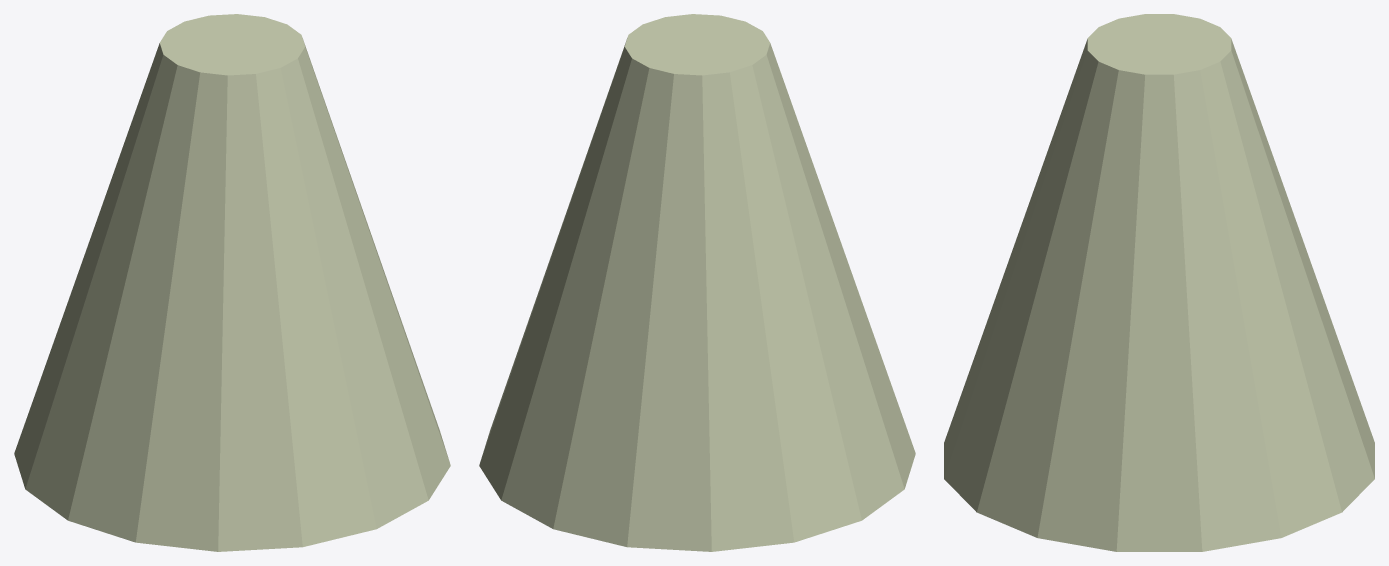
File: aquila_crew_s1p5_3_1_collider.obj
3 renders of one model, left to right at view 1: azimuth 30°, elevation 25°; view 2: azimuth 150°, elevation 25°; view 3: azimuth 270°, elevation 25°, orthographic.
Parts seen in each view (by area): view 1: aquila_crew_s1p5_3_1_collider; view 2: aquila_crew_s1p5_3_1_collider; view 3: aquila_crew_s1p5_3_1_collider.
Part boxes in pixels (x1,y1,x2,y2): aquila_crew_s1p5_3_1_collider: (14,14,450,551); aquila_crew_s1p5_3_1_collider: (479,14,915,551); aquila_crew_s1p5_3_1_collider: (944,14,1374,551).
Bounding box in the file's own units: 1.88 × 2 × 1.88.
